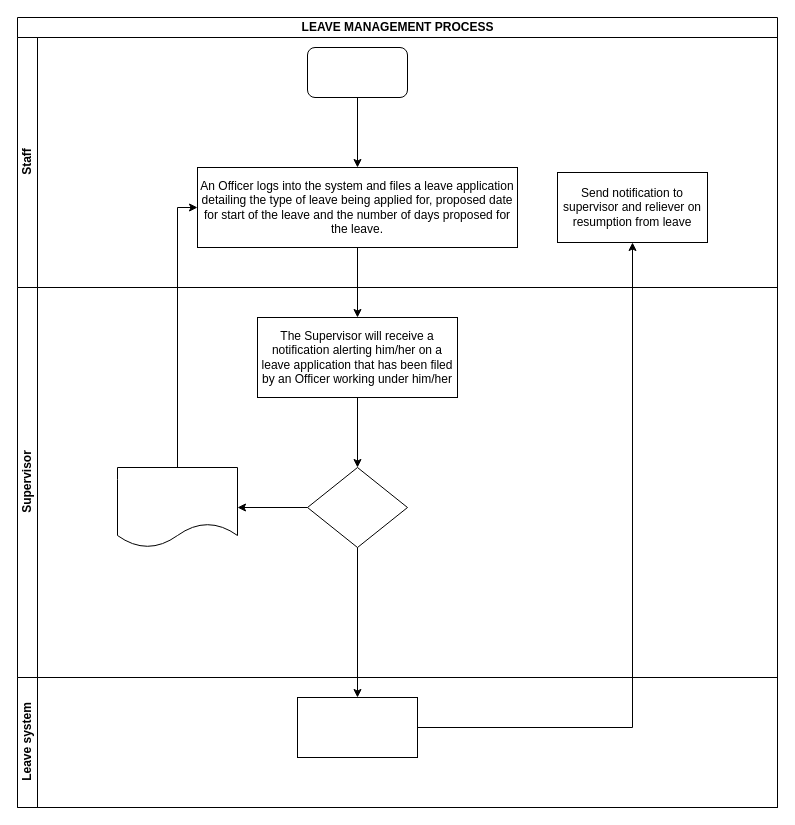
This 795x825 diagram has some shape labels left out. Here are the shapes that lost their labels. From the top down, the centre of each, then its label:
(357,72): Start
(177,507): Comments
(357,507): Leave Approved?
(357,727): Notification sent to Relieving officer, applicant and HR
